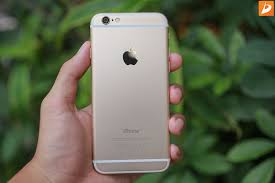iphone: (87, 10, 172, 176)
iphone6: (87, 9, 172, 175)
